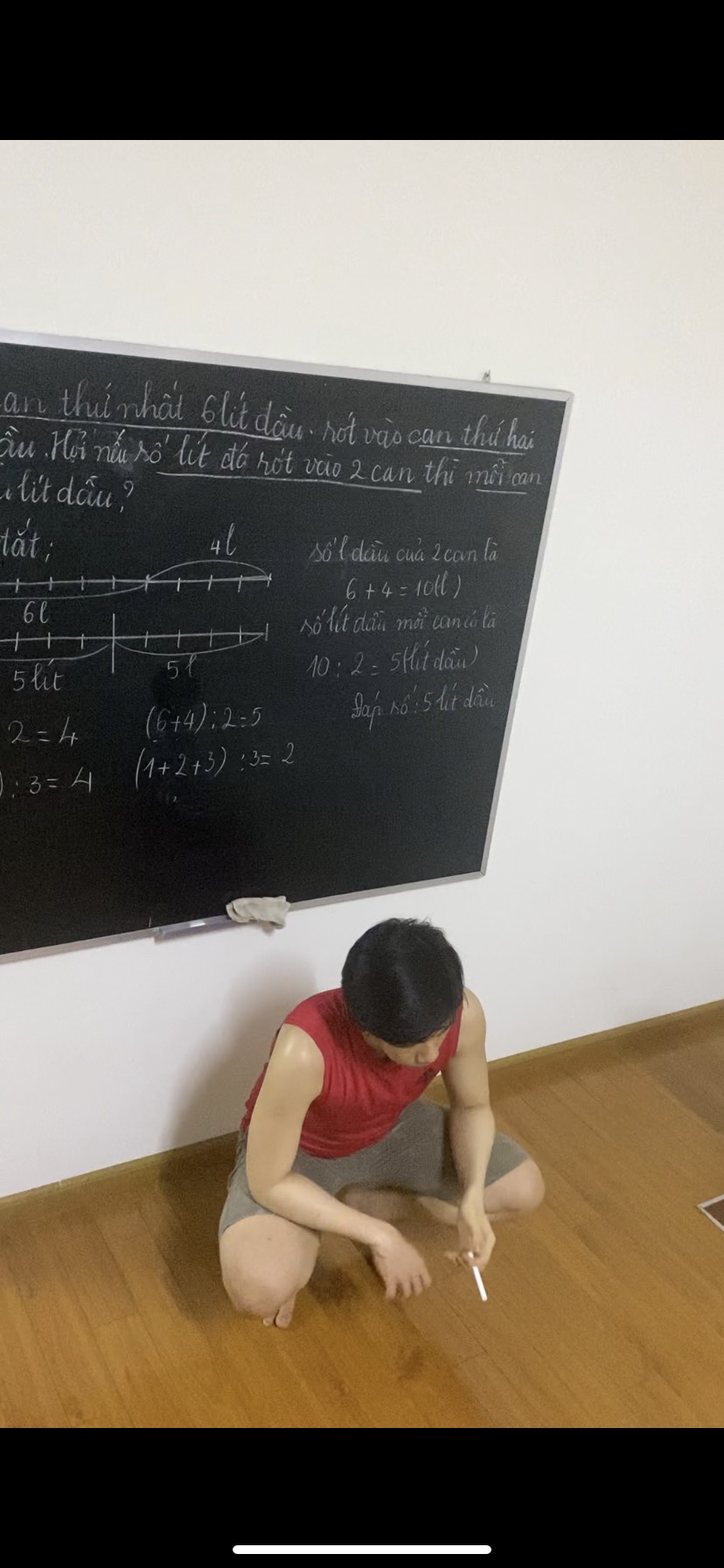cigarette: (468, 1266, 491, 1305)
person: (219, 914, 519, 1326)
